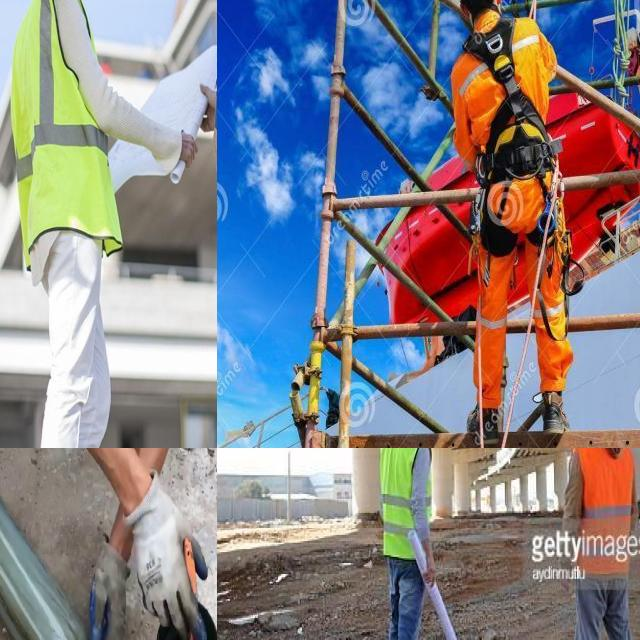Harness: (463, 17, 552, 184)
hand_glove: (128, 476, 208, 640), (86, 539, 126, 640)
hand_noglove: (173, 128, 203, 180), (208, 121, 217, 206), (422, 557, 439, 590)
person: (9, 0, 116, 448), (563, 448, 640, 640), (378, 448, 440, 640)
vest: (13, 0, 114, 253), (573, 448, 635, 588), (380, 448, 433, 558)
